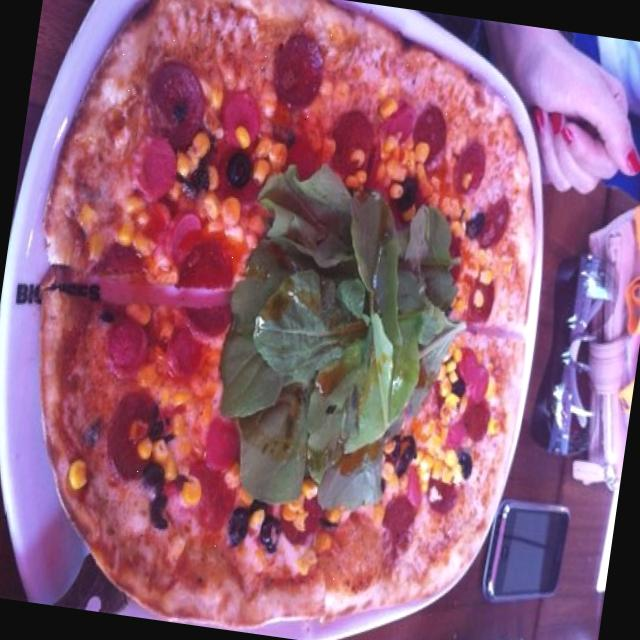Olive: (120, 446, 180, 544), (366, 426, 424, 492), (220, 506, 290, 558), (210, 143, 258, 200), (172, 148, 220, 204), (449, 203, 491, 254), (386, 160, 430, 208), (441, 443, 478, 486)
basil: (198, 171, 478, 535)
pepperoni: (97, 379, 191, 508), (133, 55, 220, 162), (247, 16, 336, 120), (374, 454, 468, 550), (165, 242, 248, 346), (433, 336, 508, 451), (253, 468, 332, 574), (316, 109, 399, 204), (388, 98, 455, 181), (464, 186, 520, 263), (452, 257, 511, 328), (442, 130, 492, 200)
pizza: (38, 0, 539, 627)
